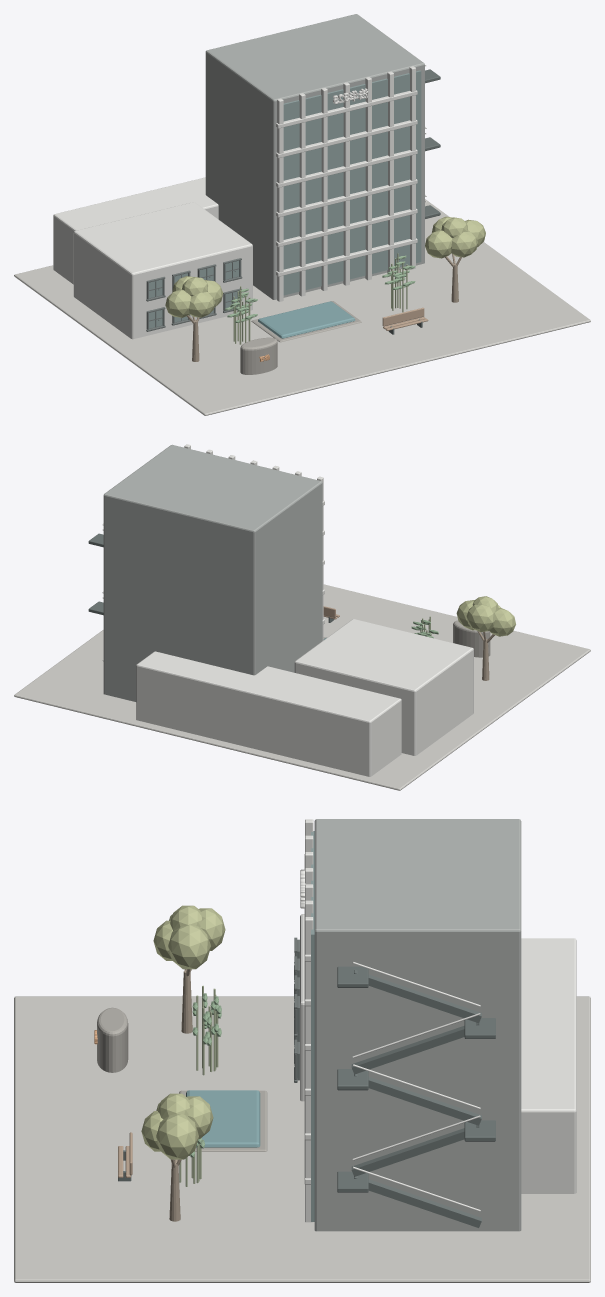
File: debi-fahua-525.glb
3 renders of one model, top to bottom at view 1: azimuth 30°, elevation 25°; view 2: azimuth 150°, elevation 25°; view 3: azimuth 270°, elevation 25°, orthographic. The views are drawn at different scales.
Visible parts, largest first — view 1: debi-fahua-525; view 2: debi-fahua-525; view 3: debi-fahua-525.
Part boxes in pixels (x1,y1,x2,y2): debi-fahua-525: [14, 14, 590, 415]; debi-fahua-525: [14, 444, 590, 790]; debi-fahua-525: [14, 819, 590, 1282].
Bounding box in the file's own units: 28 × 14.19 × 24.
